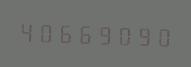four: (17, 17, 35, 44)
nine: (93, 19, 111, 47), (131, 21, 149, 48)
six: (55, 18, 73, 46), (74, 19, 92, 46)
zero: (36, 17, 54, 45), (112, 20, 130, 48), (150, 21, 168, 49)
